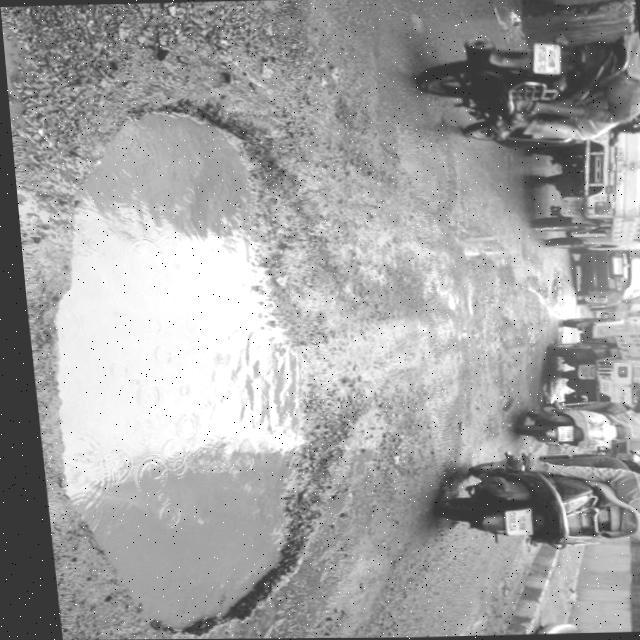pothole: (6, 88, 364, 640)
